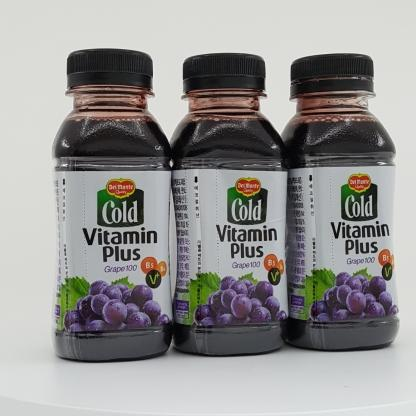---------------240ML: (51, 48, 174, 362), (277, 53, 399, 353), (170, 52, 287, 355), (132, 43, 133, 44)
